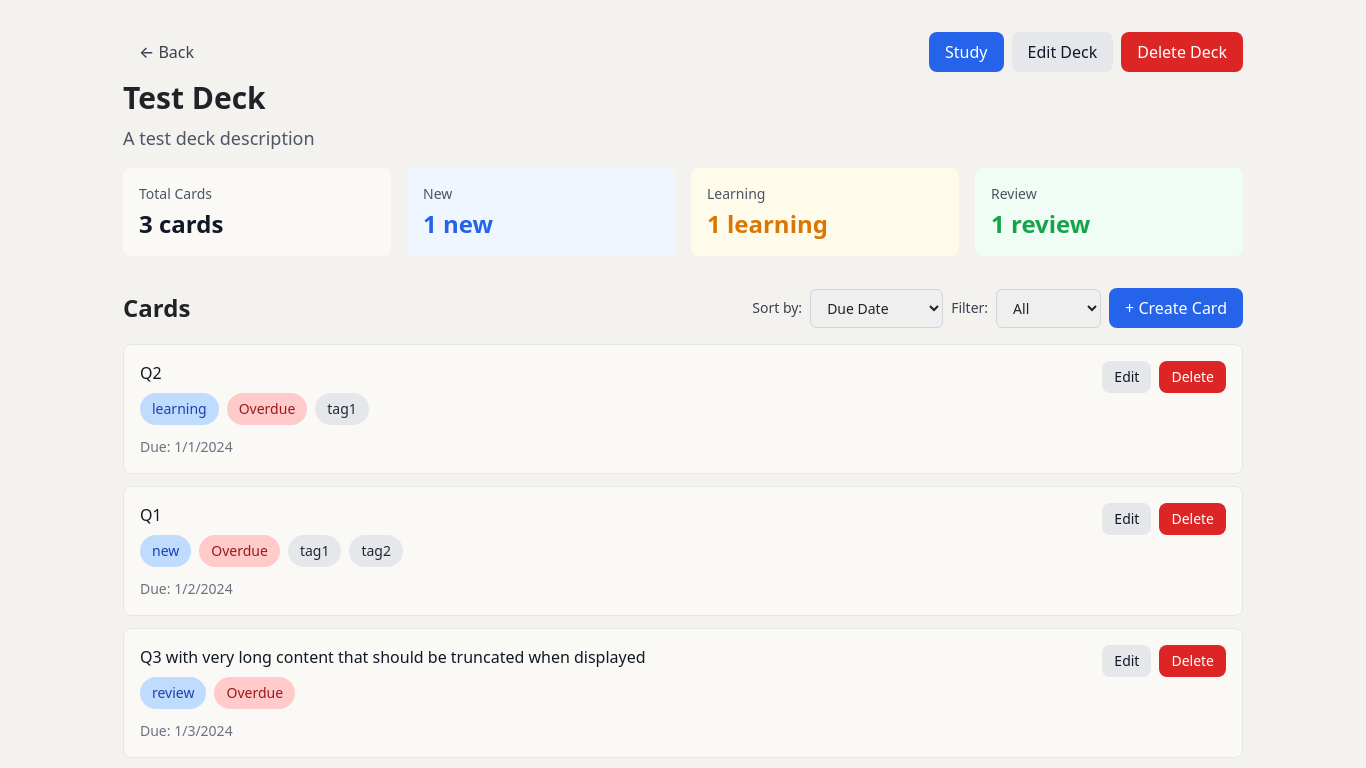
DeckDetailPage › sort and filter functionality › filters to show only new cards
Select "New" in the dropdown with test id "filter-select" at (1049, 308), box [996, 288, 1101, 328]
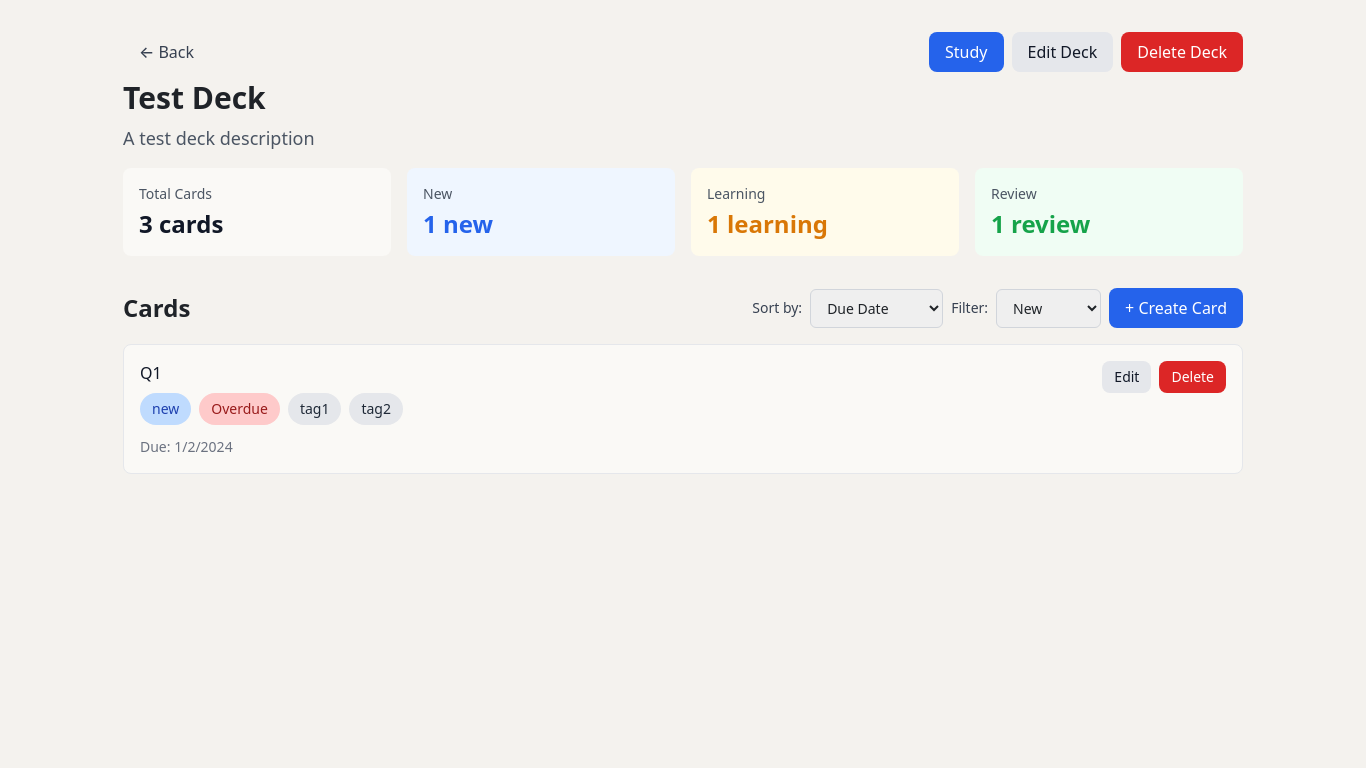
Expected: the element with test id "card-item" shows "Q1", [140, 362, 162, 384]
Result: the number of elements with test id "card-item" is 1 at [123, 344, 1243, 474]
